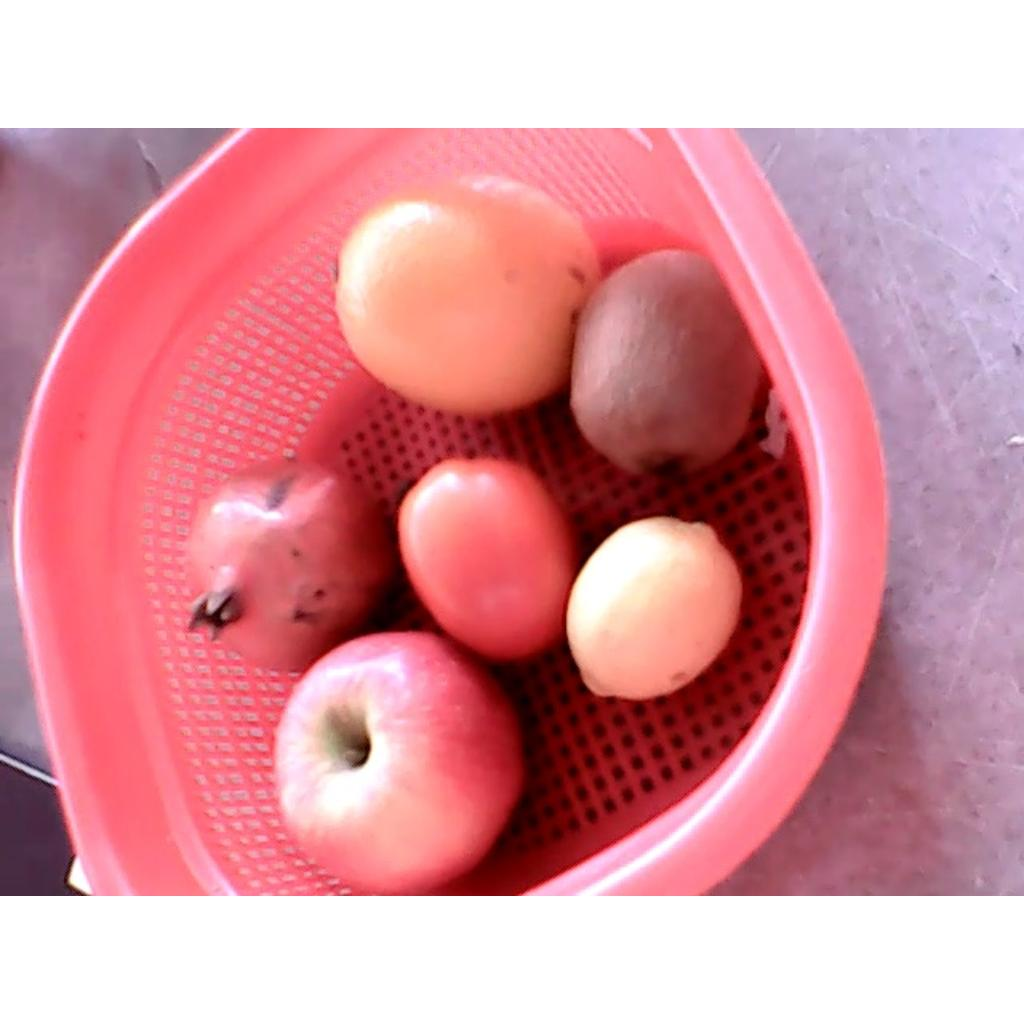apple: (274, 629, 526, 894)
kiwi: (569, 248, 761, 484)
lemon: (565, 517, 744, 702)
orange: (331, 166, 602, 416)
pomegranate: (178, 456, 392, 671)
tomato: (397, 456, 579, 662)
